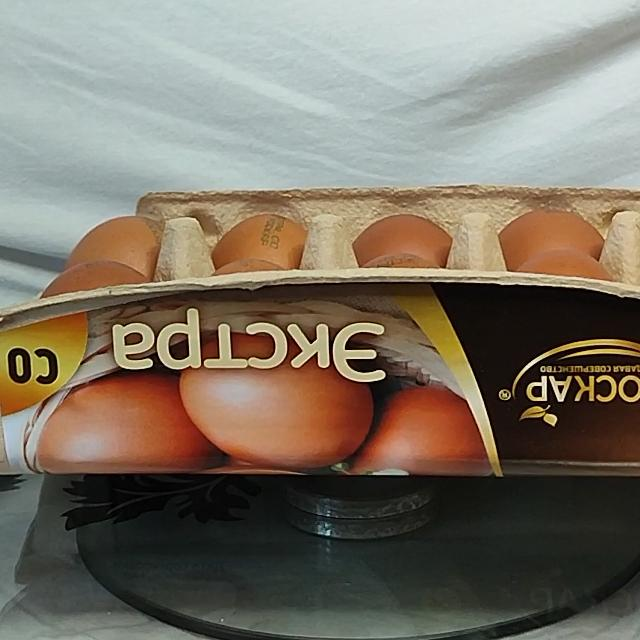egg: (0, 166, 640, 560)
